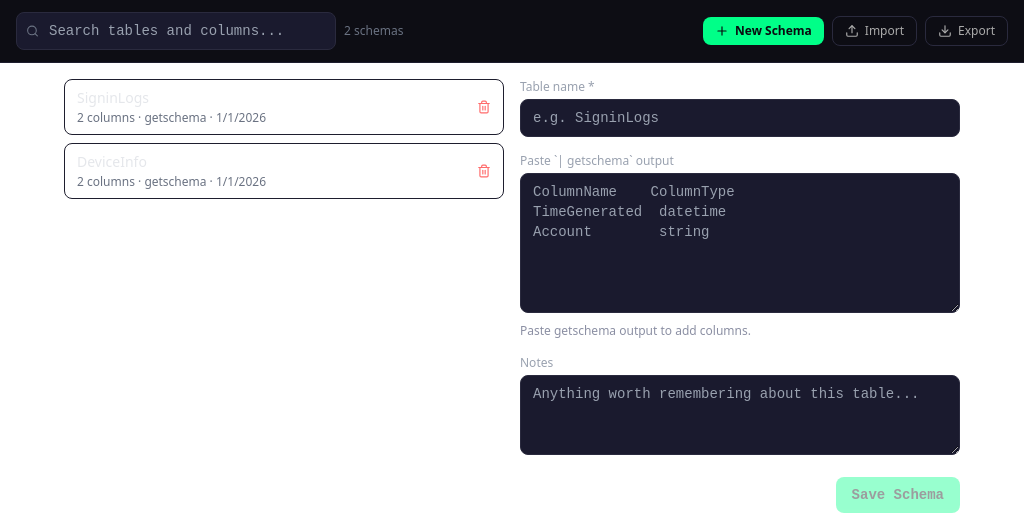
it: search › reports how much of the store the search kept
Expected: the text "SigninLogs" is shown, x1=77 y1=88 x2=149 y2=107
Type "device" into the field named "Search table and column names". click: (176, 31)
box: x1=16 y1=12 x2=336 y2=50
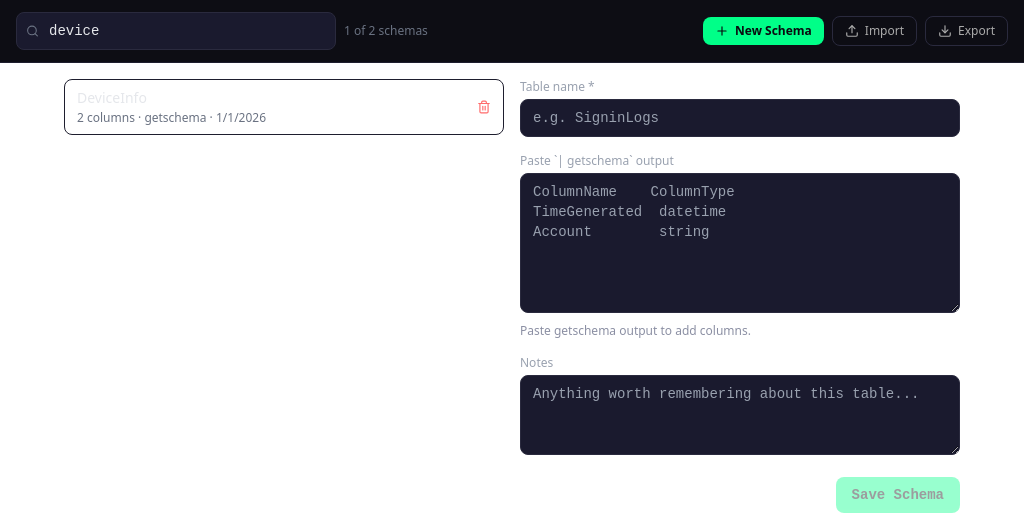
Expected: the text "1 of 2 schemas" is shown, x1=344 y1=23 x2=428 y2=39
